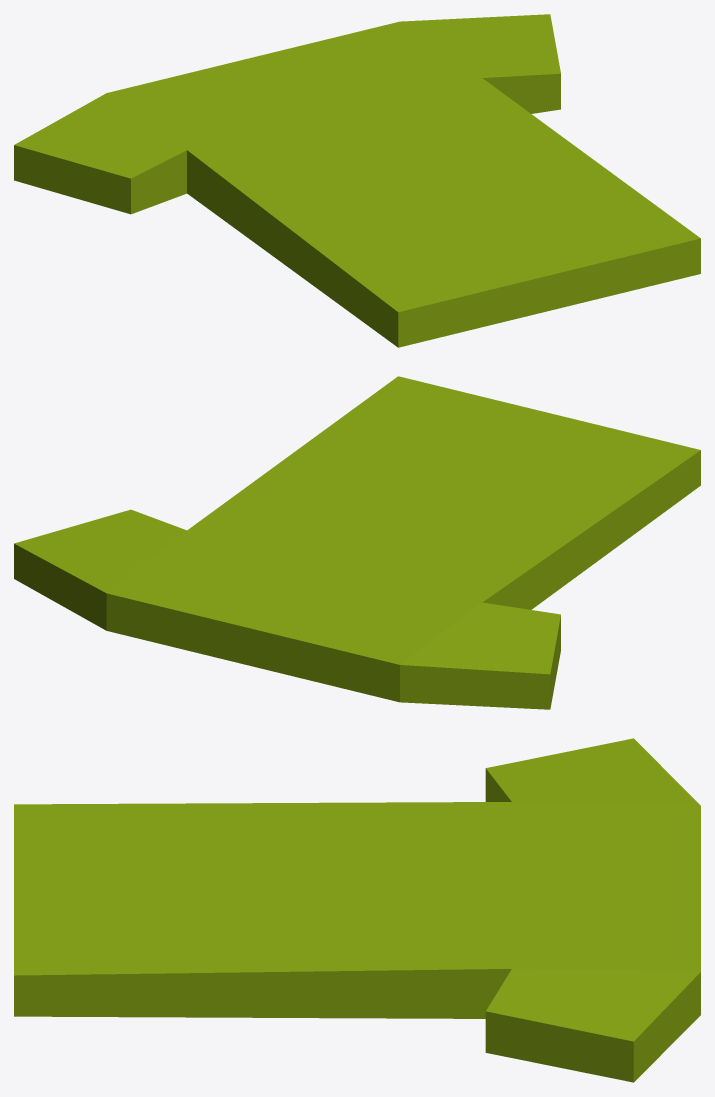
The model's file is tshirt.obj.
The picture shows the model from 3 angles, top to bottom: view 1: azimuth 30°, elevation 25°; view 2: azimuth 150°, elevation 25°; view 3: azimuth 270°, elevation 25°; orthographic projection. The views are drawn at different scales.
Parts seen in each view (by area): view 1: Cube; view 2: Cube; view 3: Cube.
Boxes of the visible parts, x1=… form: Cube: x1=14, y1=14, x2=700, y2=347; Cube: x1=14, y1=376, x2=700, y2=709; Cube: x1=14, y1=738, x2=700, y2=1082.
Size of the model in its own units: 0.4547 by 0.0352 by 0.4353.
